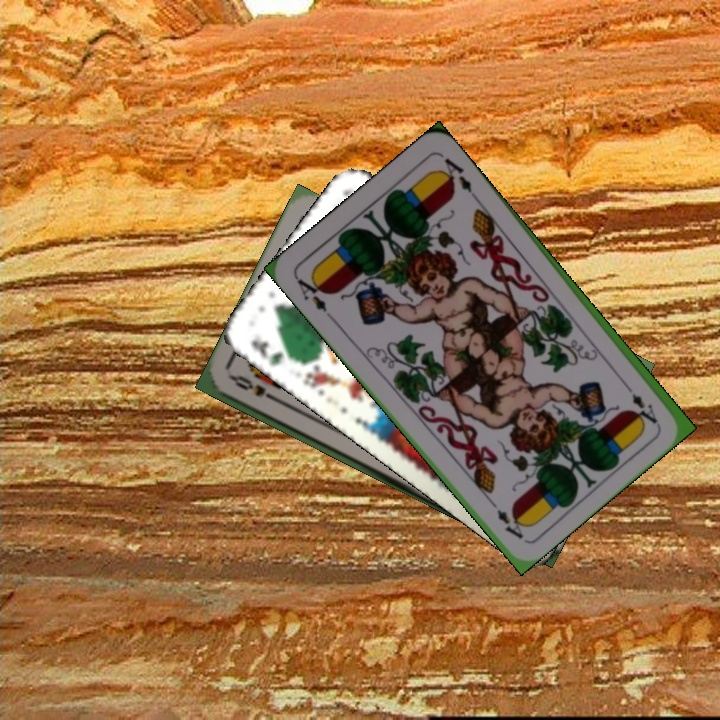EA: (291, 271, 335, 322), (619, 377, 660, 427)
GK: (246, 335, 301, 369)
SO: (227, 371, 283, 405)
